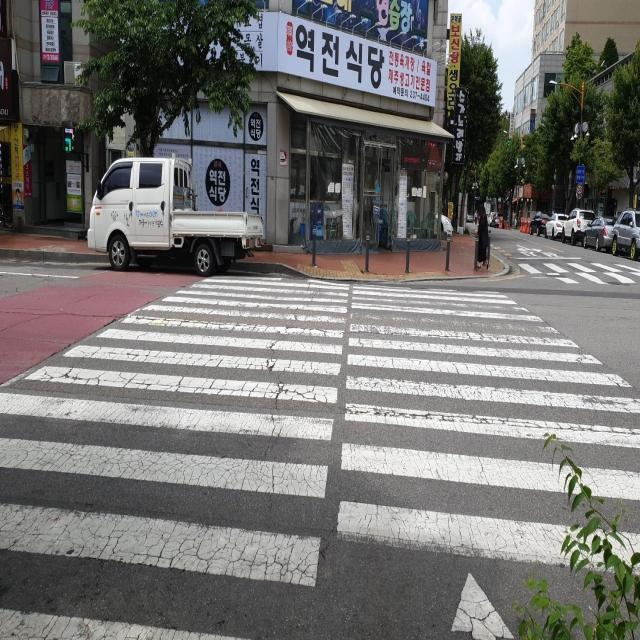횡단보도: (0, 272, 640, 640), (512, 256, 640, 285)
